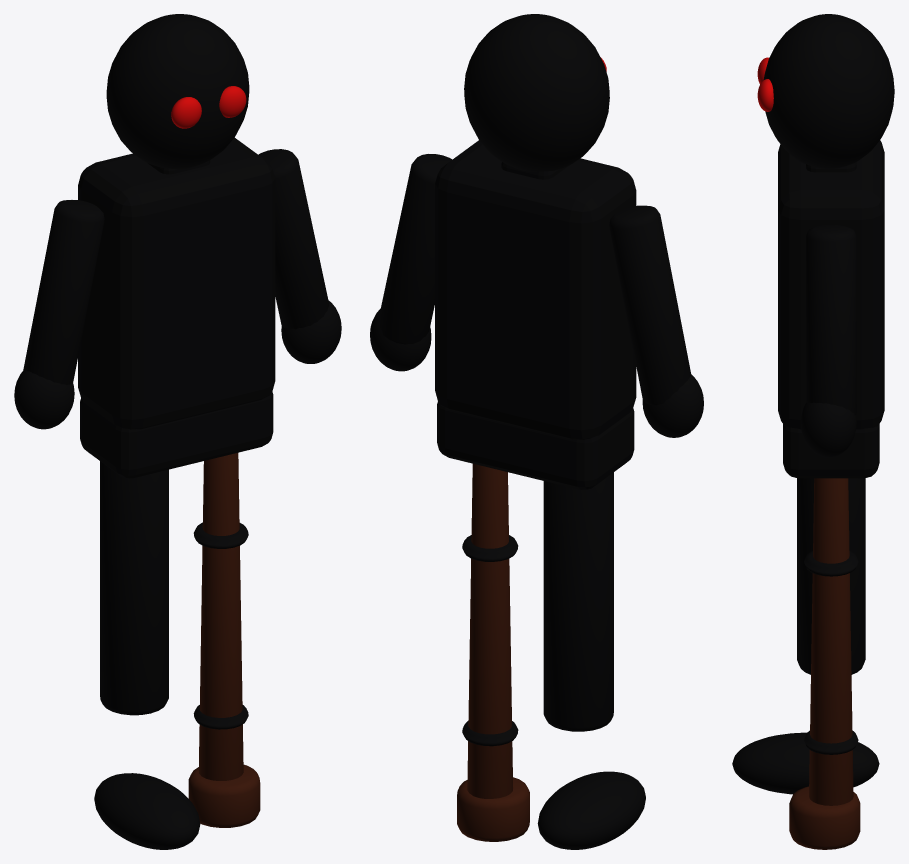
The model's file is enemigo3.obj.
3 views of the same model, side by side, from view 1: azimuth 30°, elevation 25°; view 2: azimuth 150°, elevation 25°; view 3: azimuth 270°, elevation 25° (orthographic). The views are drawn at different scales.
Parts seen in each view (by area): view 1: Torso, Pierna_izquierda, Cabeza, Pata_de_palo, Brazo_izquierdo, Cadera, Brazo_derecho, Pie_izquierdo, Base_pata_de_palo, Mano_izquierda, Mano_derecha, Aro_metalico_pata.001 (+3 smaller); view 2: Torso, Cabeza, Pierna_izquierda, Pata_de_palo, Brazo_izquierdo, Cadera, Brazo_derecho, Pie_izquierdo, Base_pata_de_palo, Mano_izquierda, Mano_derecha, Aro_metalico_pata.001 (+1 smaller); view 3: Torso, Cabeza, Pata_de_palo, Brazo_derecho, Pierna_izquierda, Pie_izquierdo, Cadera, Base_pata_de_palo, Mano_derecha, Aro_metalico_pata.001, Aro_metalico_pata, Ojo_rojo.001.
Boxes of the visible parts, bbox=[...] form: Torso: bbox=[78, 137, 275, 429]; Pierna_izquierda: bbox=[100, 461, 168, 715]; Cabeza: bbox=[106, 14, 249, 169]; Pata_de_palo: bbox=[198, 453, 243, 780]; Brazo_izquierdo: bbox=[23, 200, 104, 384]; Cadera: bbox=[80, 392, 273, 478]; Brazo_derecho: bbox=[258, 149, 328, 329]; Pie_izquierdo: bbox=[94, 773, 200, 849]; Base_pata_de_palo: bbox=[188, 764, 260, 827]; Mano_izquierda: bbox=[14, 370, 74, 429]; Mano_derecha: bbox=[281, 300, 341, 363]; Aro_metalico_pata.001: bbox=[193, 522, 248, 548]; Torso: bbox=[435, 140, 636, 439]; Cabeza: bbox=[464, 14, 609, 171]; Pierna_izquierda: bbox=[543, 472, 613, 731]; Pata_de_palo: bbox=[467, 463, 512, 798]; Brazo_izquierdo: bbox=[609, 205, 691, 405]; Cadera: bbox=[437, 401, 634, 489]; Brazo_derecho: bbox=[379, 154, 451, 344]; Pie_izquierdo: bbox=[537, 771, 645, 849]; Base_pata_de_palo: bbox=[457, 777, 529, 841]; Mano_izquierda: bbox=[642, 374, 703, 437]; Mano_derecha: bbox=[370, 309, 431, 371]; Aro_metalico_pata.001: bbox=[462, 535, 518, 561]; Torso: bbox=[778, 140, 884, 429]; Cabeza: bbox=[763, 14, 894, 169]; Pata_de_palo: bbox=[809, 478, 853, 805]; Brazo_derecho: bbox=[806, 225, 856, 415]; Pierna_izquierda: bbox=[797, 478, 865, 674]; Pie_izquierdo: bbox=[732, 732, 879, 794]; Cadera: bbox=[783, 424, 879, 478]; Base_pata_de_palo: bbox=[789, 786, 860, 849]; Mano_derecha: bbox=[801, 402, 856, 457]; Aro_metalico_pata.001: bbox=[804, 550, 858, 576]; Aro_metalico_pata: bbox=[804, 730, 858, 754]; Ojo_rojo.001: bbox=[757, 79, 773, 111].
Size of the model in its own units: 2.88 by 6.92 by 1.28.
